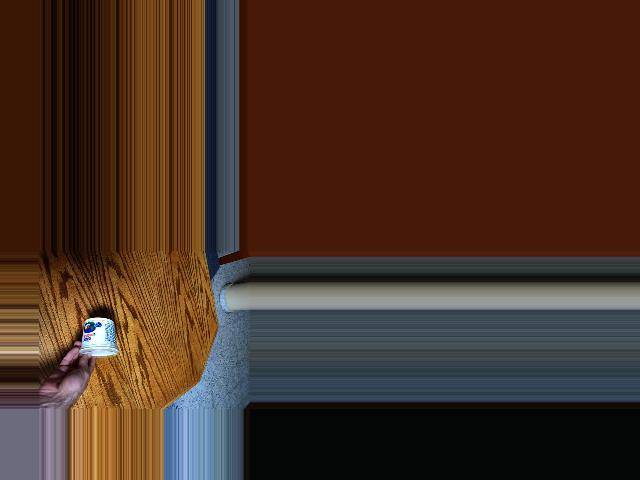cotage: (77, 319, 122, 358)
